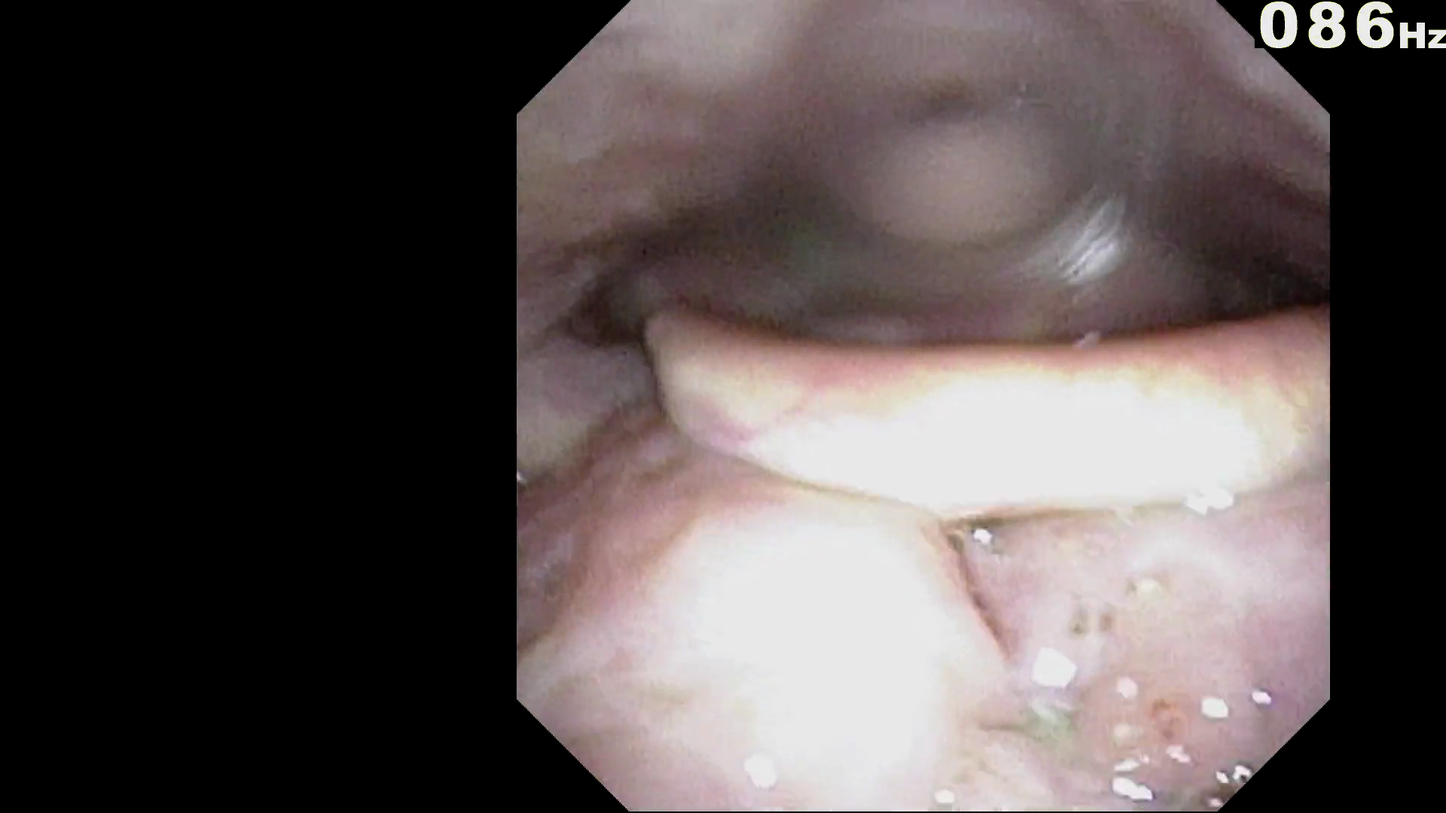epiglottis: (648, 328, 1313, 553)
